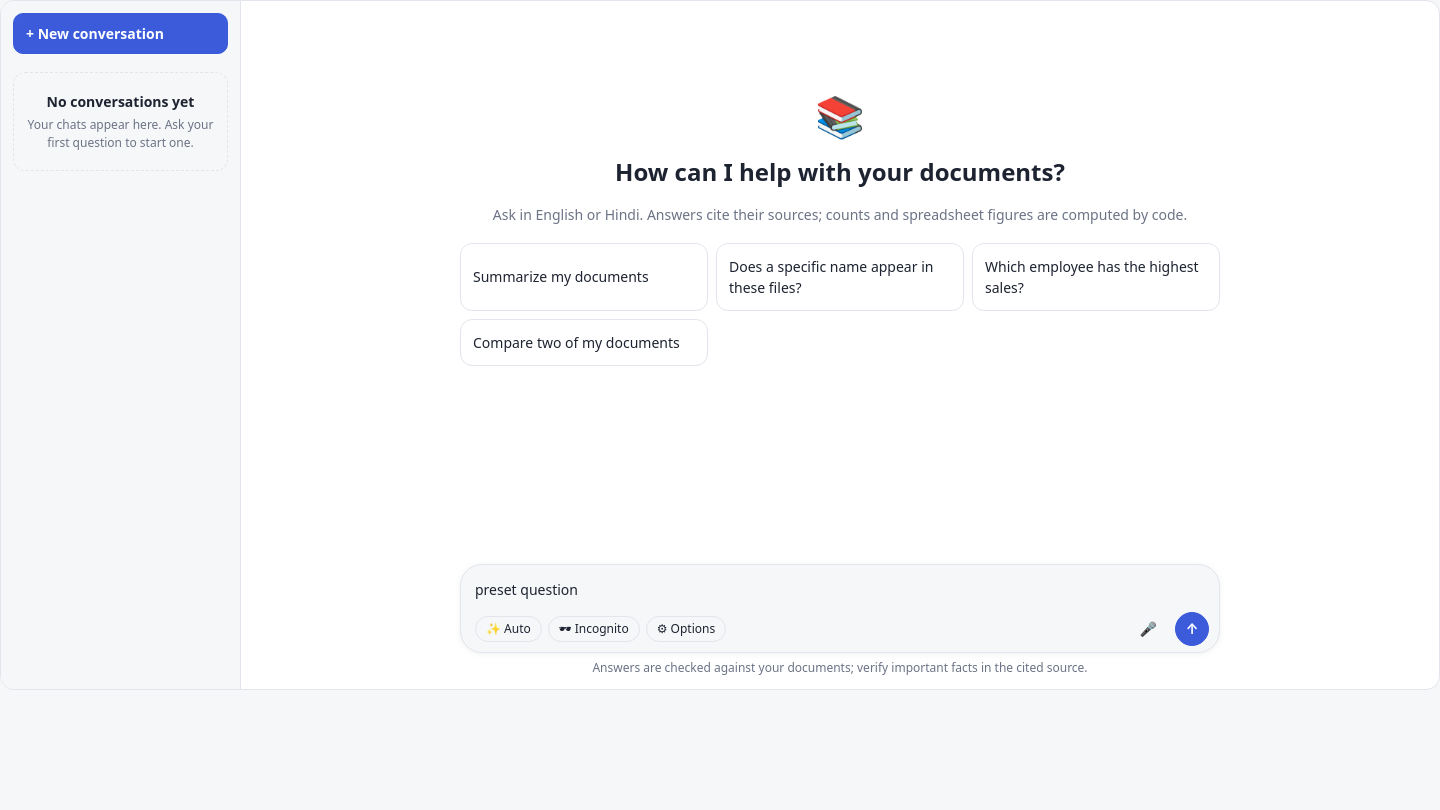
Scenario: Chat › clicking a follow-up asks it, and server errors are shown
Expected: the text box named "Question" holds "preset question", left=475, top=573, right=1209, bottom=606
Click the button named "Ask". click: click(1192, 628)
box: left=1175, top=612, right=1209, bottom=646
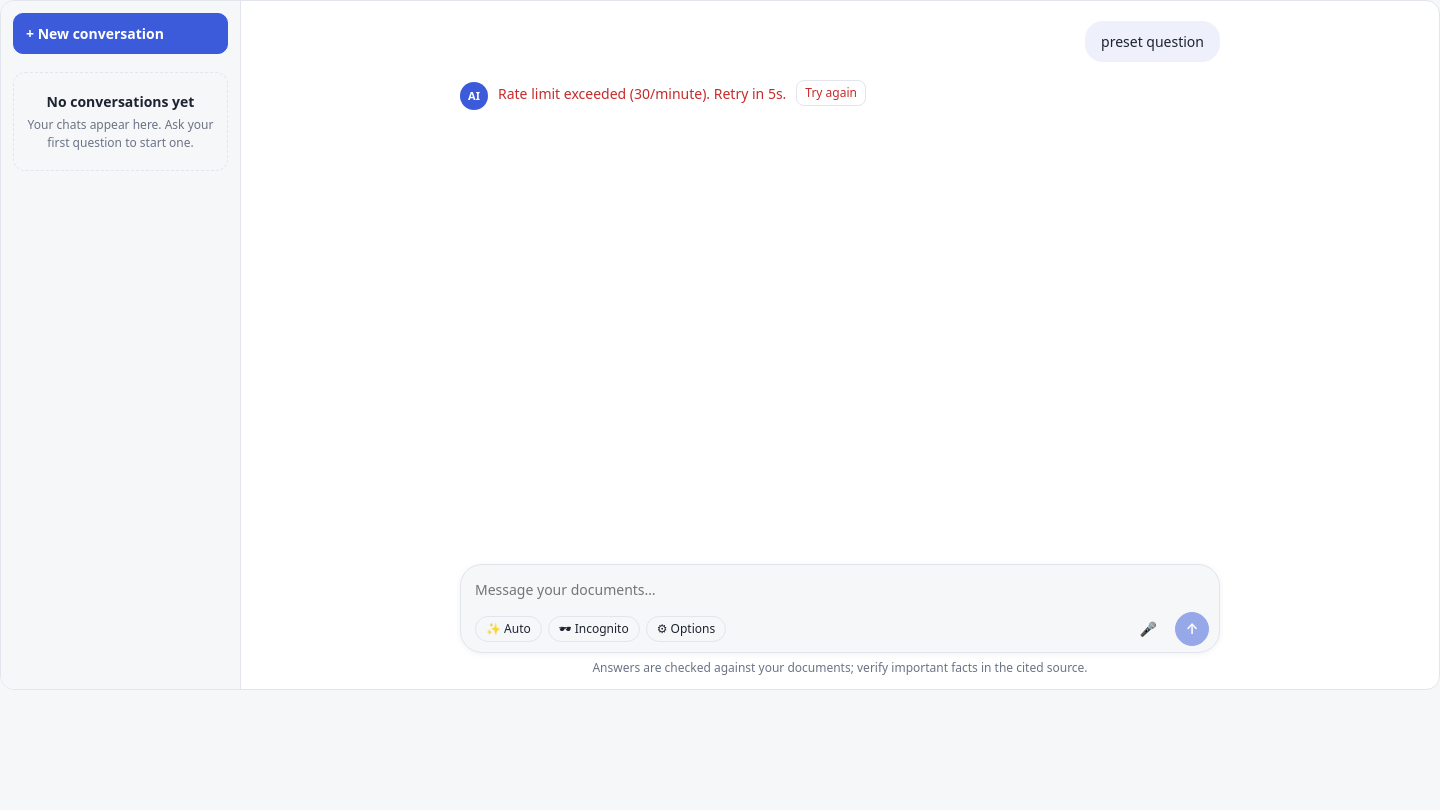
Expected: the message shows "Rate limit exceeded", left=498, top=84, right=786, bottom=102
